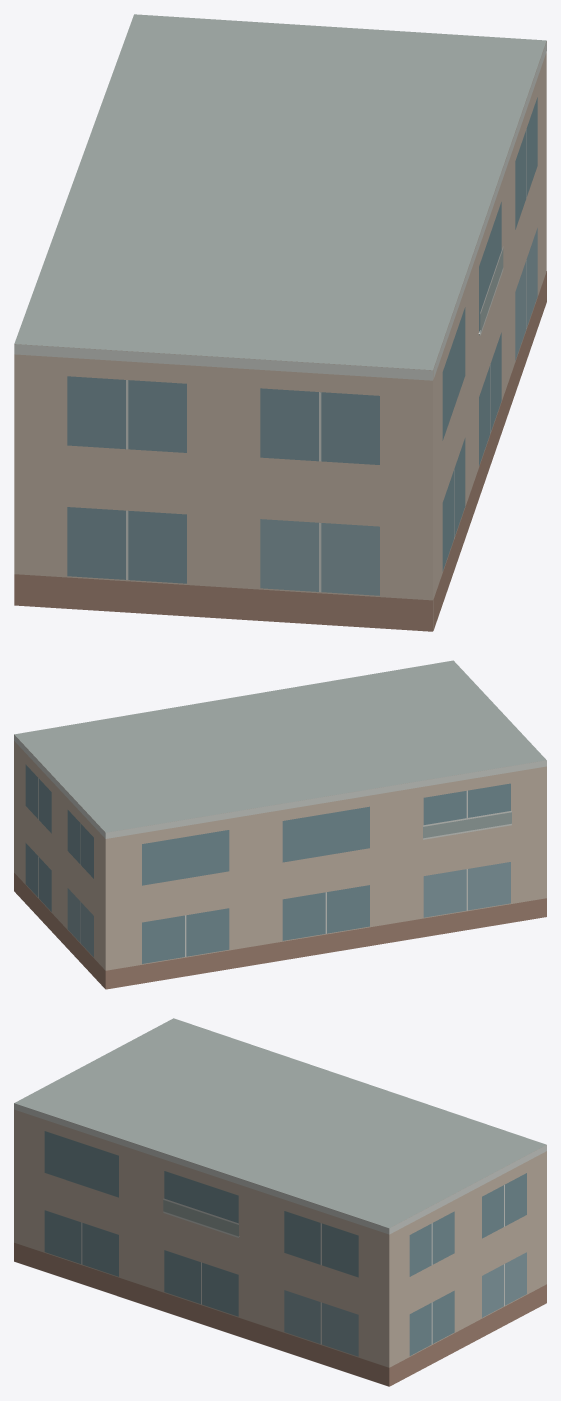
Rendered from survey-upis-32884759.glb.
3 renders of one model, top to bottom at view 1: azimuth 30°, elevation 25°; view 2: azimuth 150°, elevation 25°; view 3: azimuth 270°, elevation 25°, orthographic. The views are drawn at different scales.
Parts seen in each view (by area): view 1: survey-upis-32884759.tmp; view 2: survey-upis-32884759.tmp; view 3: survey-upis-32884759.tmp.
Boxes of the visible parts, bbox=[...] form: survey-upis-32884759.tmp: bbox=[14, 14, 546, 631]; survey-upis-32884759.tmp: bbox=[14, 660, 546, 989]; survey-upis-32884759.tmp: bbox=[14, 1018, 546, 1386].
Bounding box in the file's own units: 17.36 × 6.1 × 18.6.
